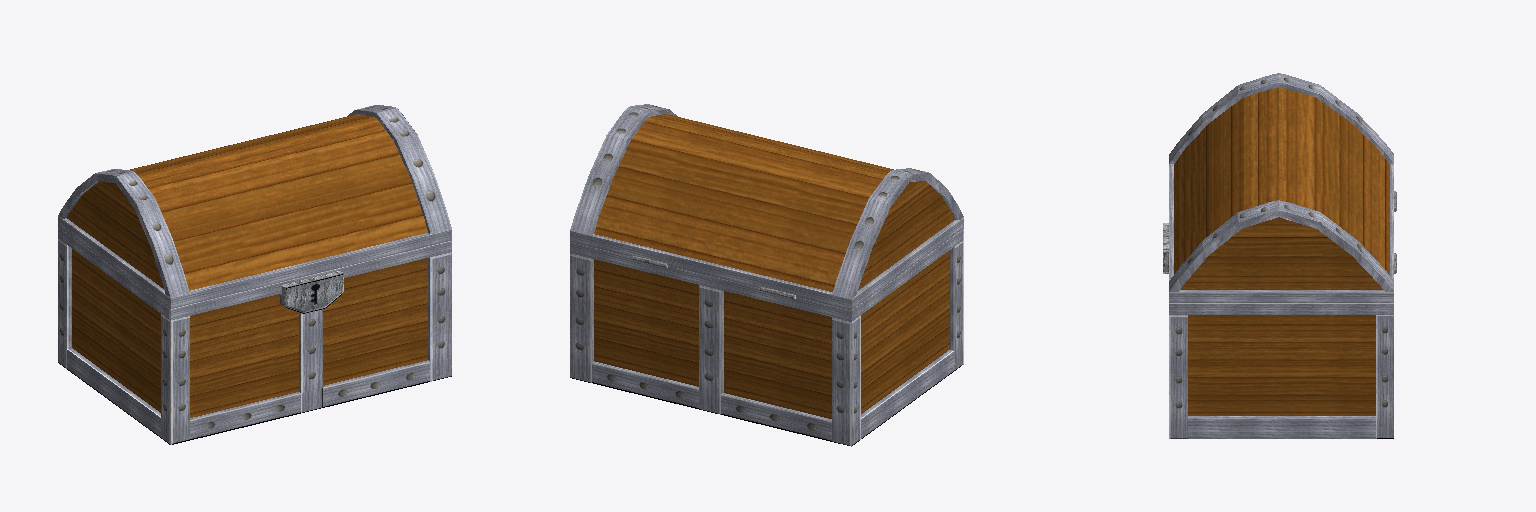
The picture shows the model from 3 angles: view 1: azimuth 30°, elevation 25°; view 2: azimuth 150°, elevation 25°; view 3: azimuth 270°, elevation 25°; orthographic projection.
Visible parts, largest first — view 1: MagicTreasureChestBlue, MagicTreasureChestCoverBlue; view 2: MagicTreasureChestBlue, MagicTreasureChestCoverBlue; view 3: MagicTreasureChestCoverBlue, MagicTreasureChestBlue.
Part boxes in pixels (bbox=[...]): MagicTreasureChestBlue: bbox=[58, 227, 451, 444]; MagicTreasureChestCoverBlue: bbox=[58, 105, 451, 308]; MagicTreasureChestBlue: bbox=[570, 229, 963, 446]; MagicTreasureChestCoverBlue: bbox=[570, 104, 963, 310]; MagicTreasureChestCoverBlue: bbox=[1169, 73, 1396, 302]; MagicTreasureChestBlue: bbox=[1163, 223, 1393, 438].
Bounding box in the file's own units: 1.44 × 1.12 × 1.03.
2 materials, 1 textured.